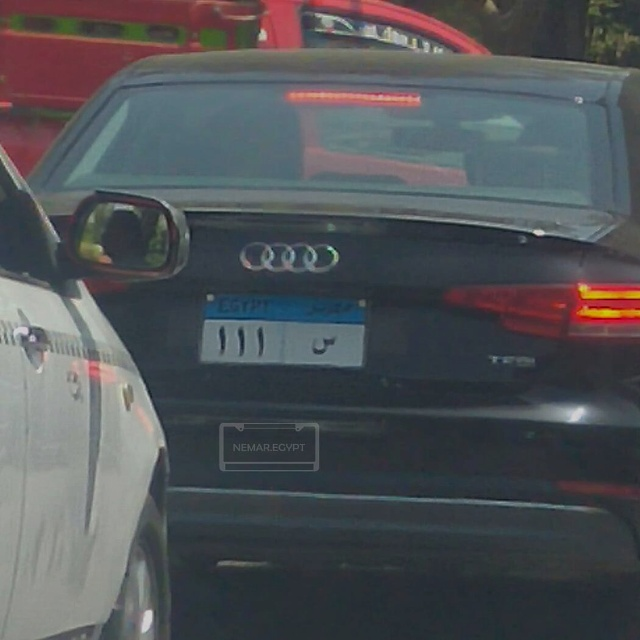License Plate: (195, 290, 371, 373)
